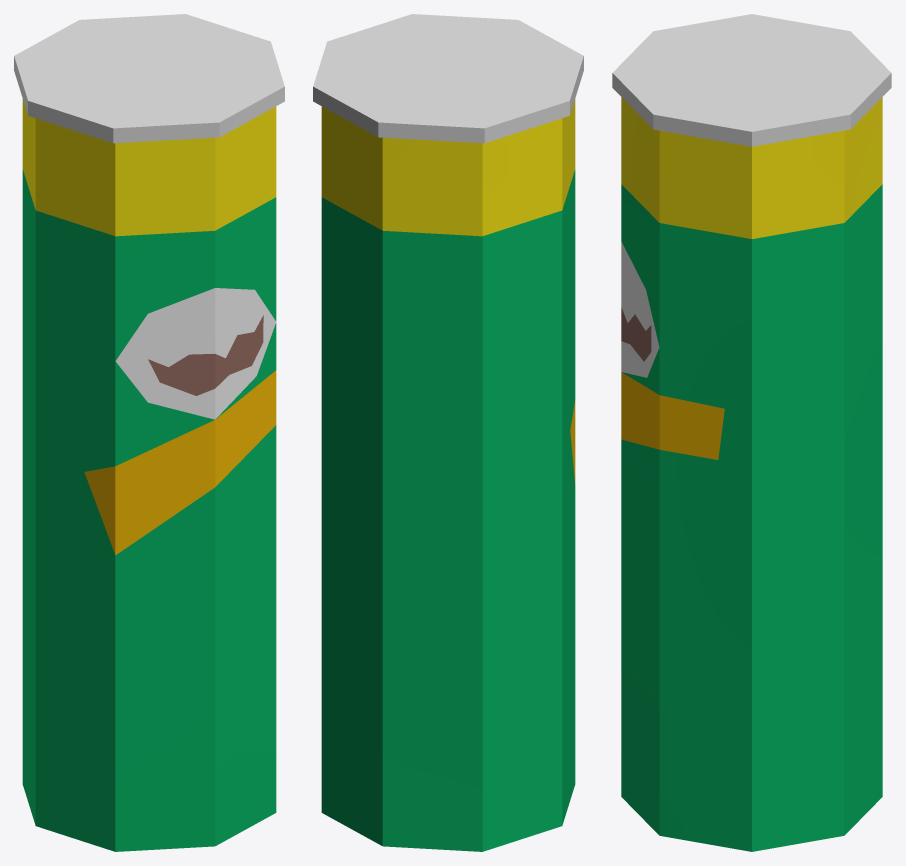
File: chips_001.glb
The picture shows the model from 3 angles, left to right: view 1: azimuth 30°, elevation 25°; view 2: azimuth 150°, elevation 25°; view 3: azimuth 270°, elevation 25°; orthographic projection.
Visible parts, largest first — view 1: chips_001; view 2: chips_001; view 3: chips_001.
Part boxes in pixels (box(x1,y1,x2,y2)): chips_001: box(14, 14, 284, 851); chips_001: box(313, 14, 583, 851); chips_001: box(612, 14, 891, 851).
Size of the model in its own units: 0.0809 by 0.2316 by 0.0809.
1 material, 1 textured.
